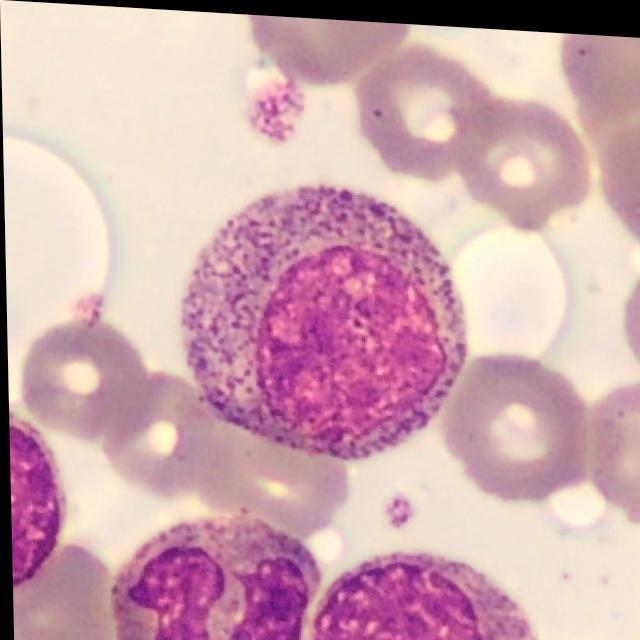Promielocito: (178, 181, 467, 458)
